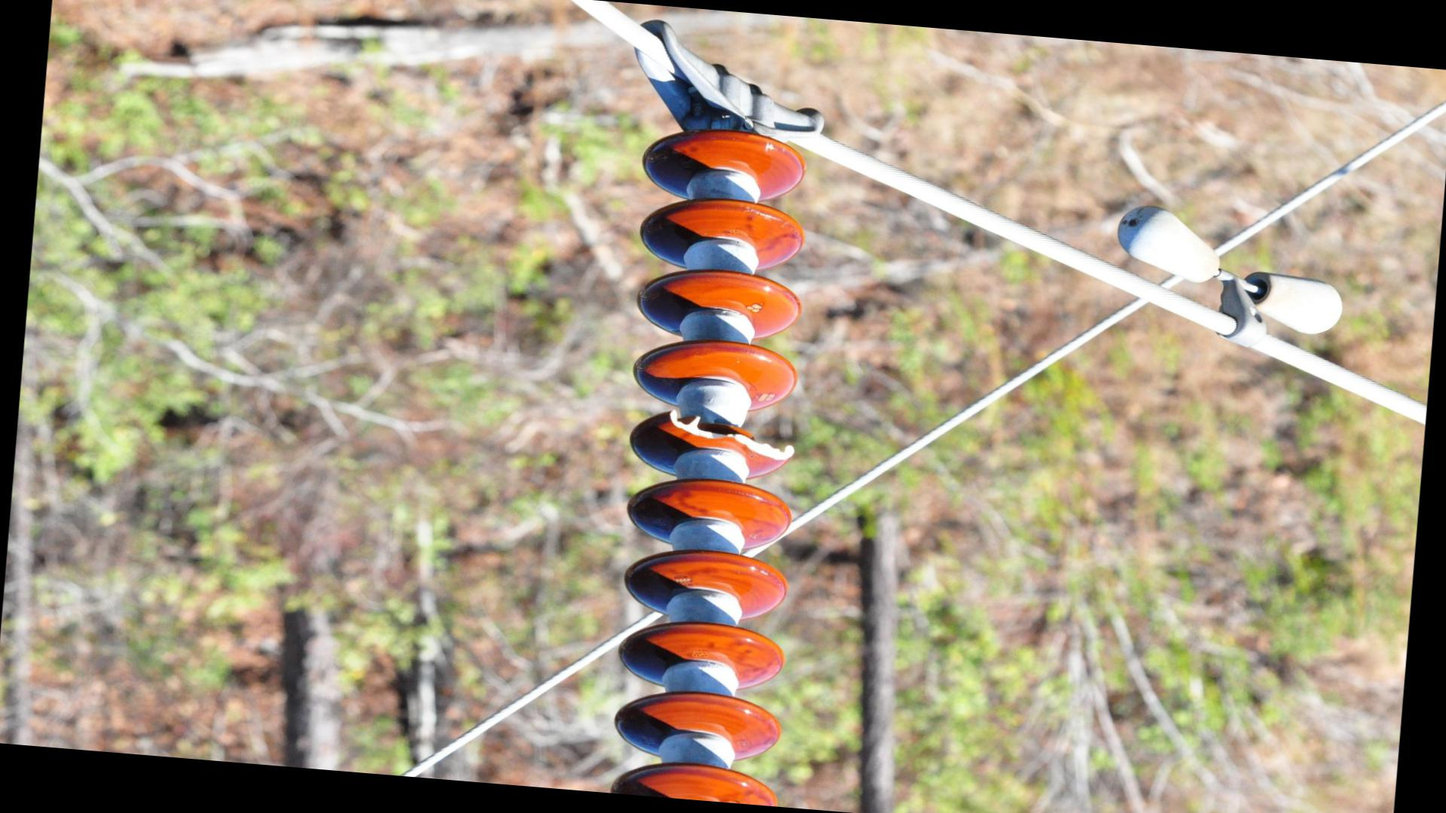damper: (1101, 196, 1357, 364)
